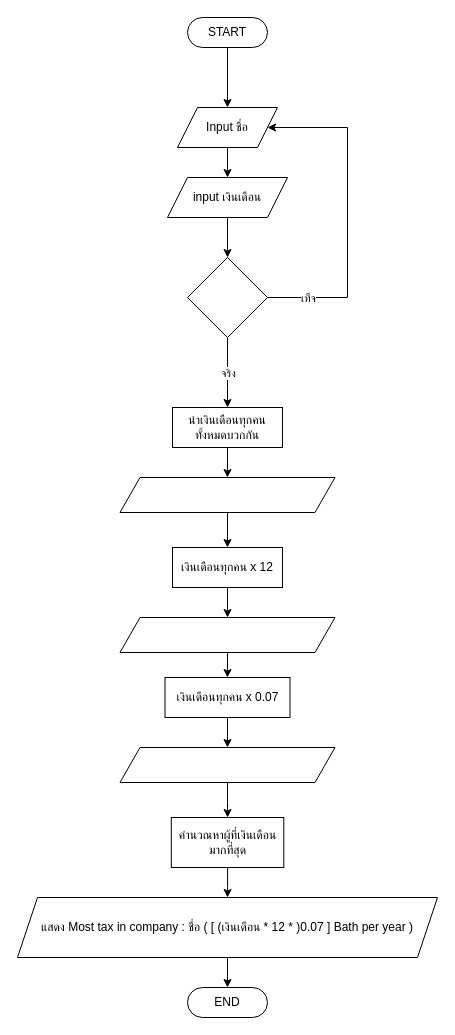
The diagram is 455 pixels wide and 1035 high, and some of its shapes have lost their labels. Here are the shapes that lost their labels. From the top down, the centre of each, then its label:
[227,297]: ชื่อ == "-1"
[227,494]: แสดง All salary per month: ผลลัพธ์
[227,634]: แสดง All salary per year: ผลลัพธ์
[227,764]: แสดง Tax (7% per year) : ผลลัพธ์
